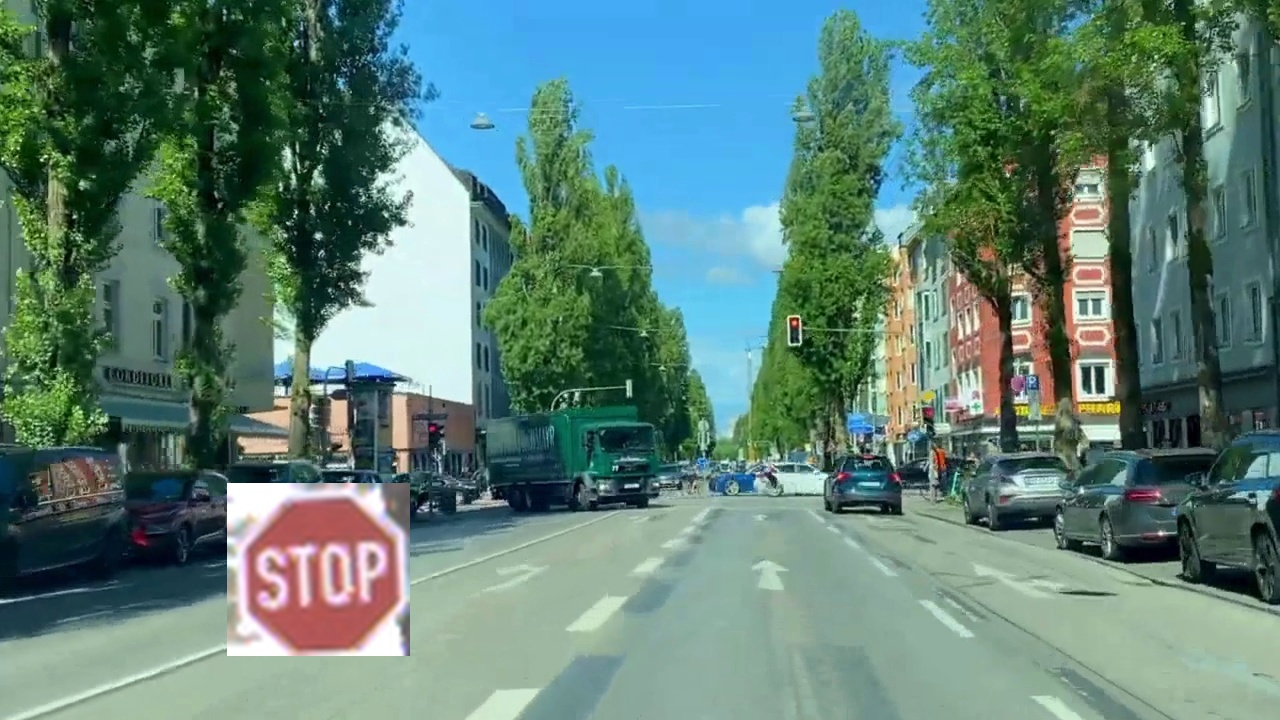Stop: (227, 483, 410, 656)
